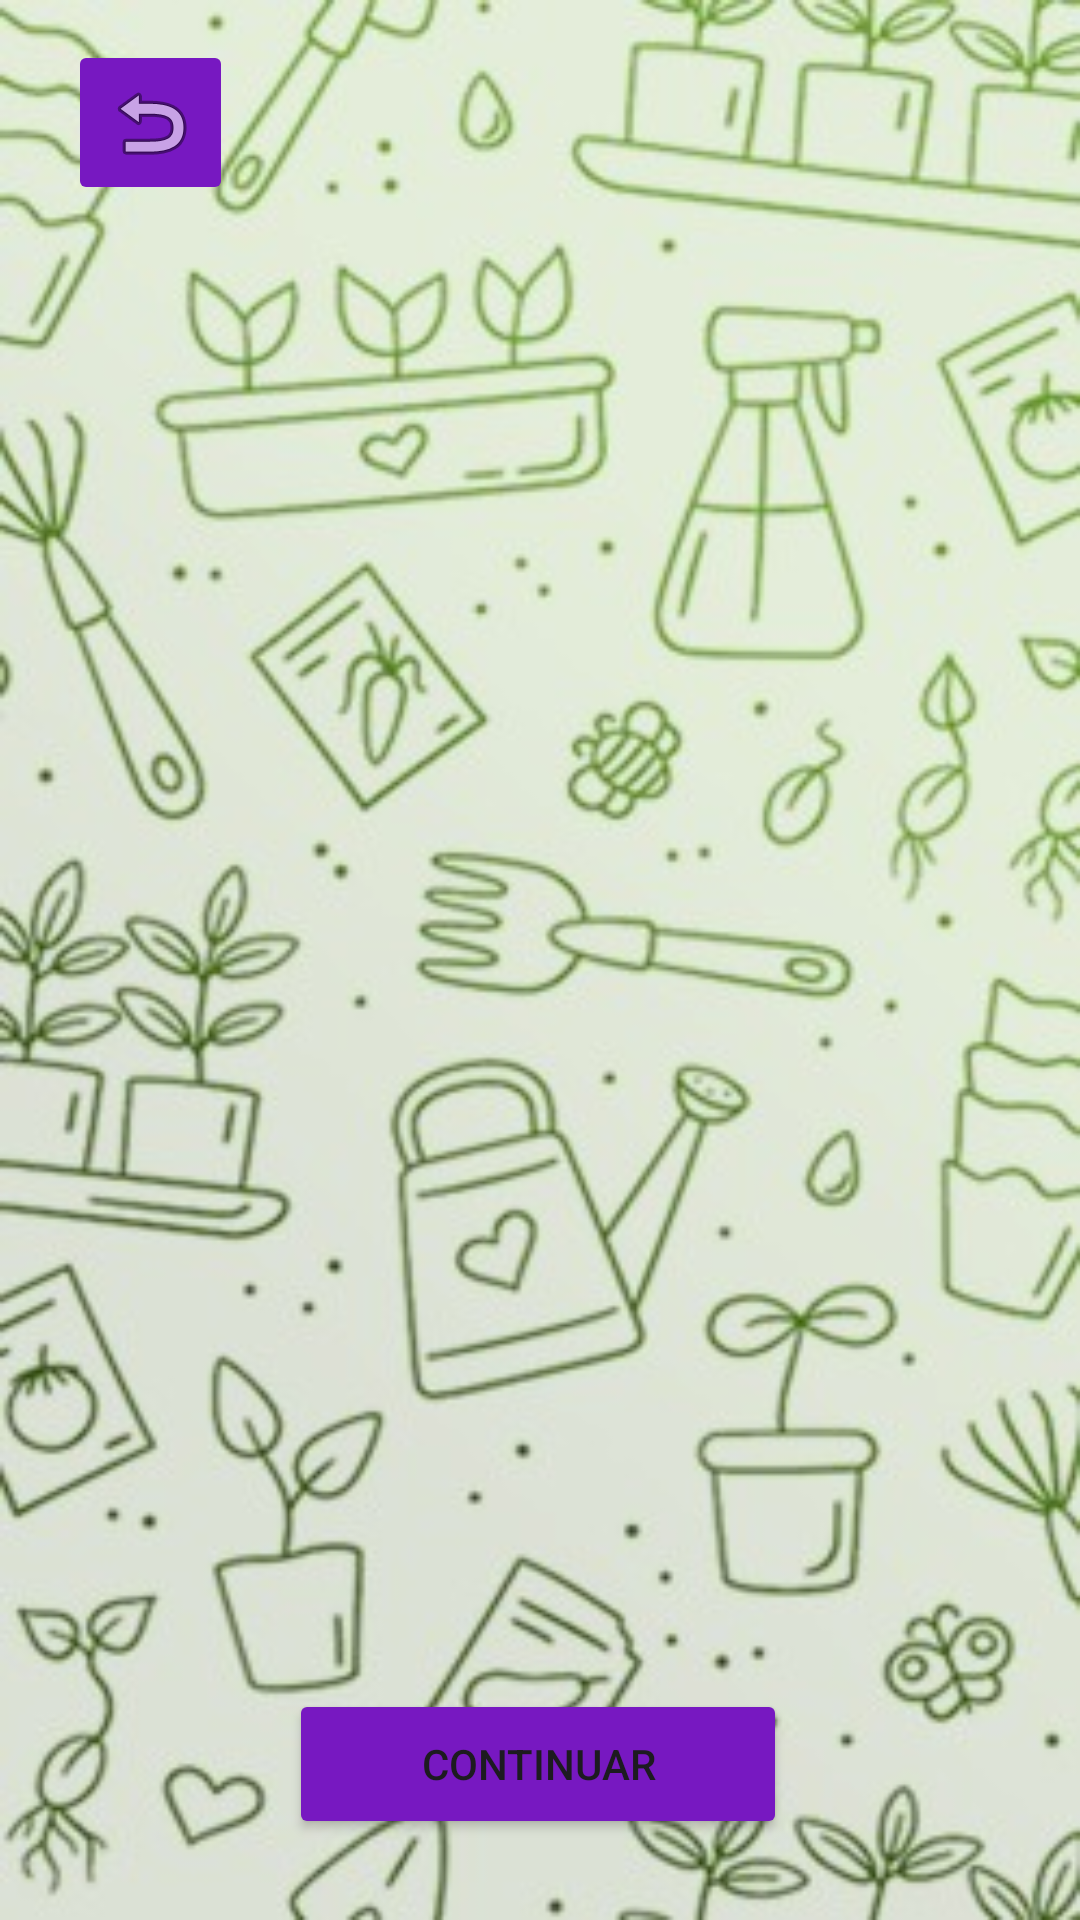

Screen size 1080px x 1920px. Icon name, then its center in pixels as (x=x, y=y):
Regresar: (x=150, y=122)
